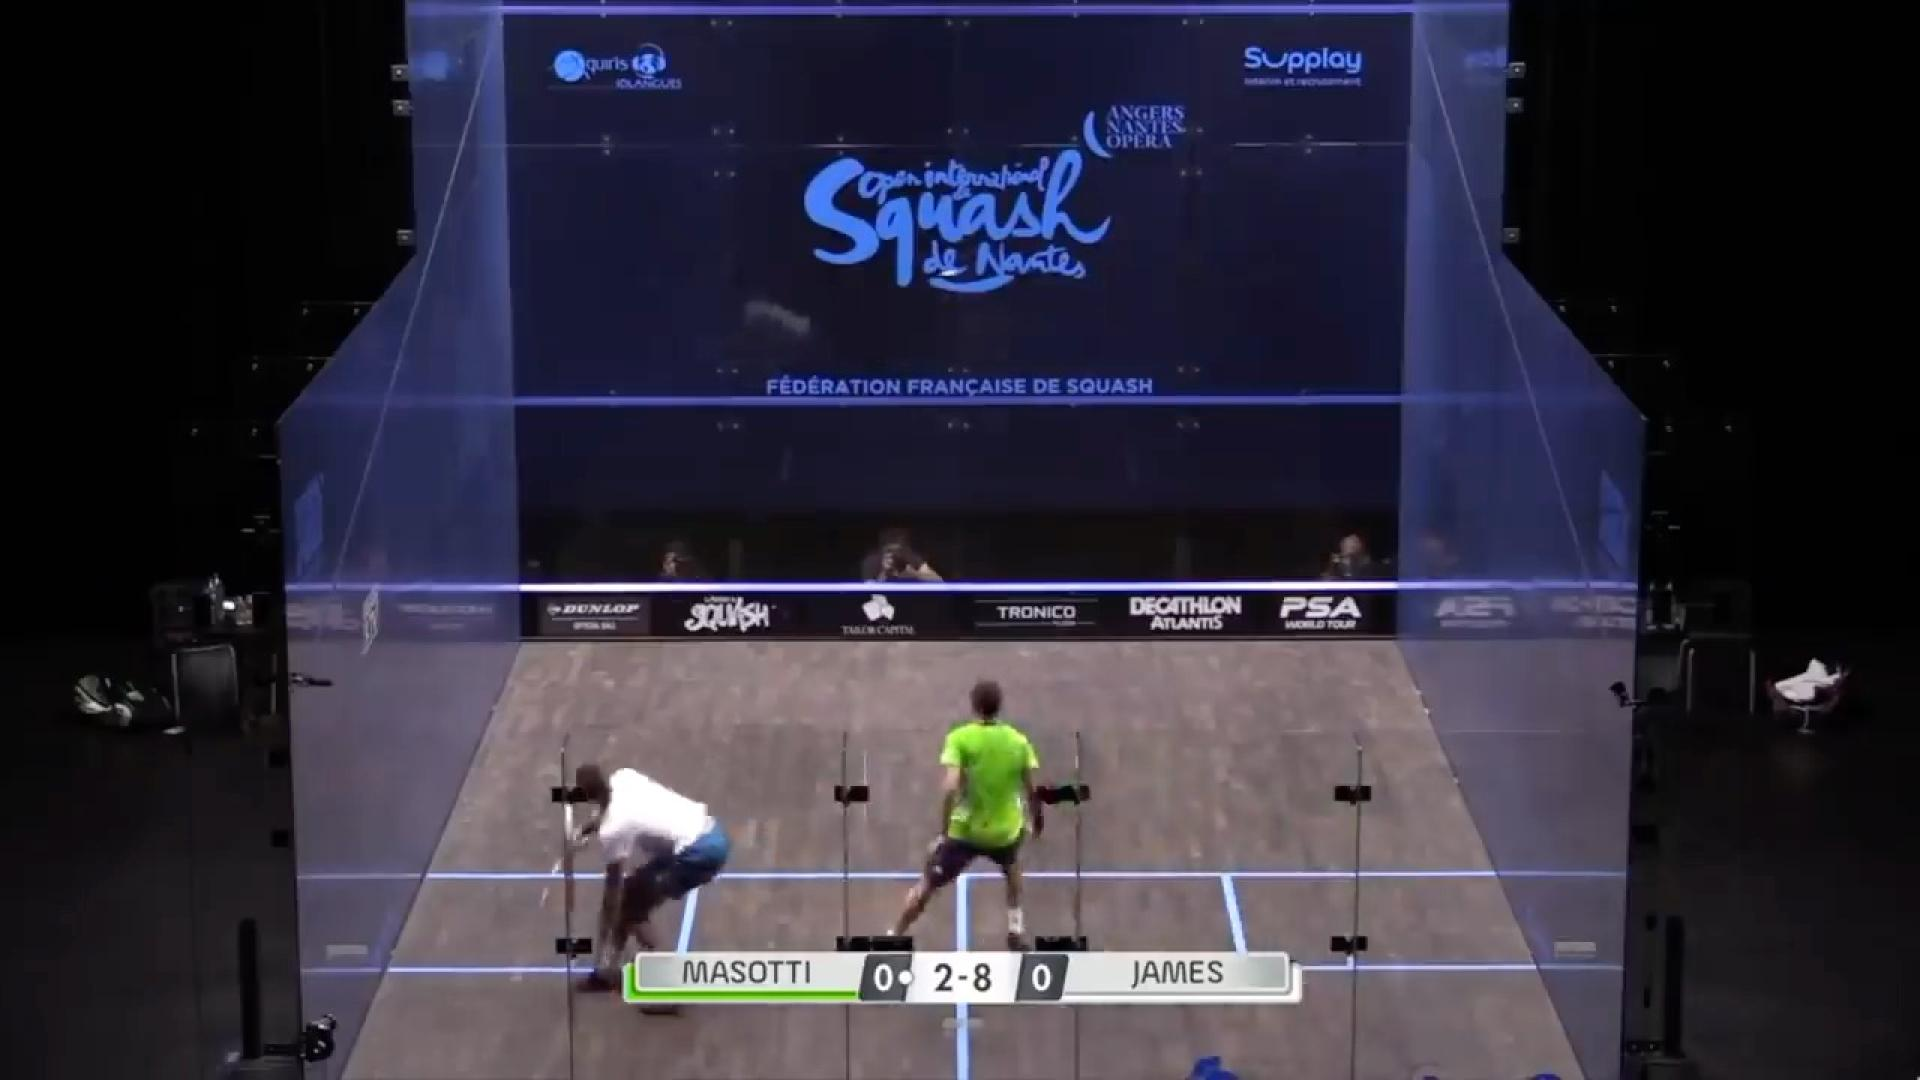Squash-Ball: (930, 251, 973, 298)
